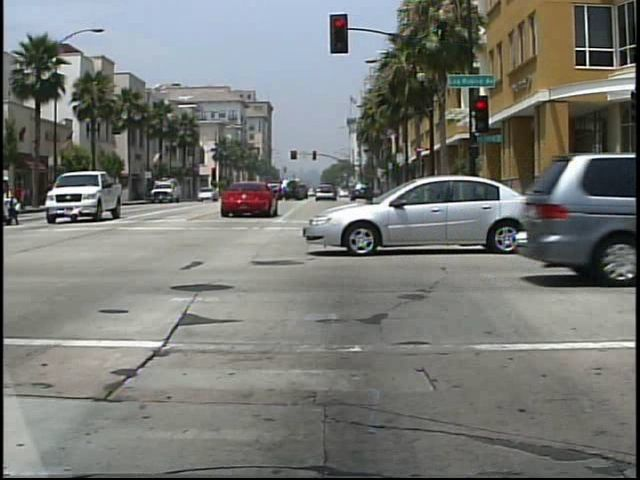person: (1, 173, 27, 229)
